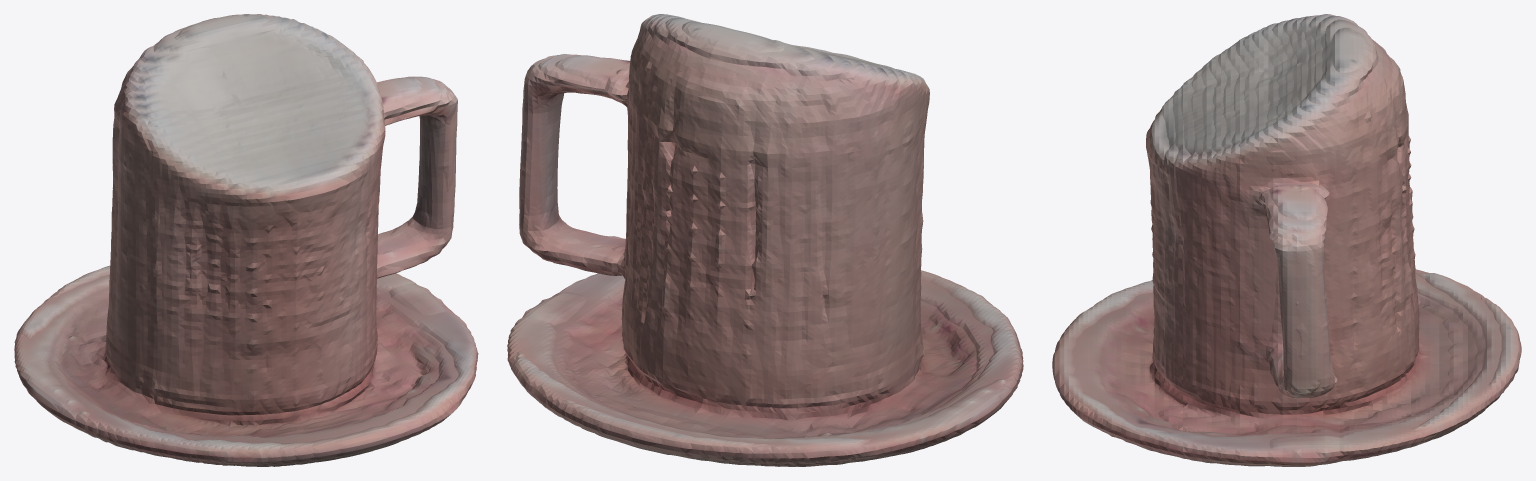
3 views of the same model, side by side, from view 1: azimuth 30°, elevation 25°; view 2: azimuth 150°, elevation 25°; view 3: azimuth 270°, elevation 25° (orthographic). The views are drawn at different scales.
Parts seen in each view (by area): view 1: mesh.obj; view 2: mesh.obj; view 3: mesh.obj.
Boxes of the visible parts, bbox=[...] form: mesh.obj: bbox=[14, 14, 478, 466]; mesh.obj: bbox=[507, 14, 1023, 466]; mesh.obj: bbox=[1052, 14, 1521, 466].
Bounding box in the file's own units: 1.23 × 1 × 1.19.
